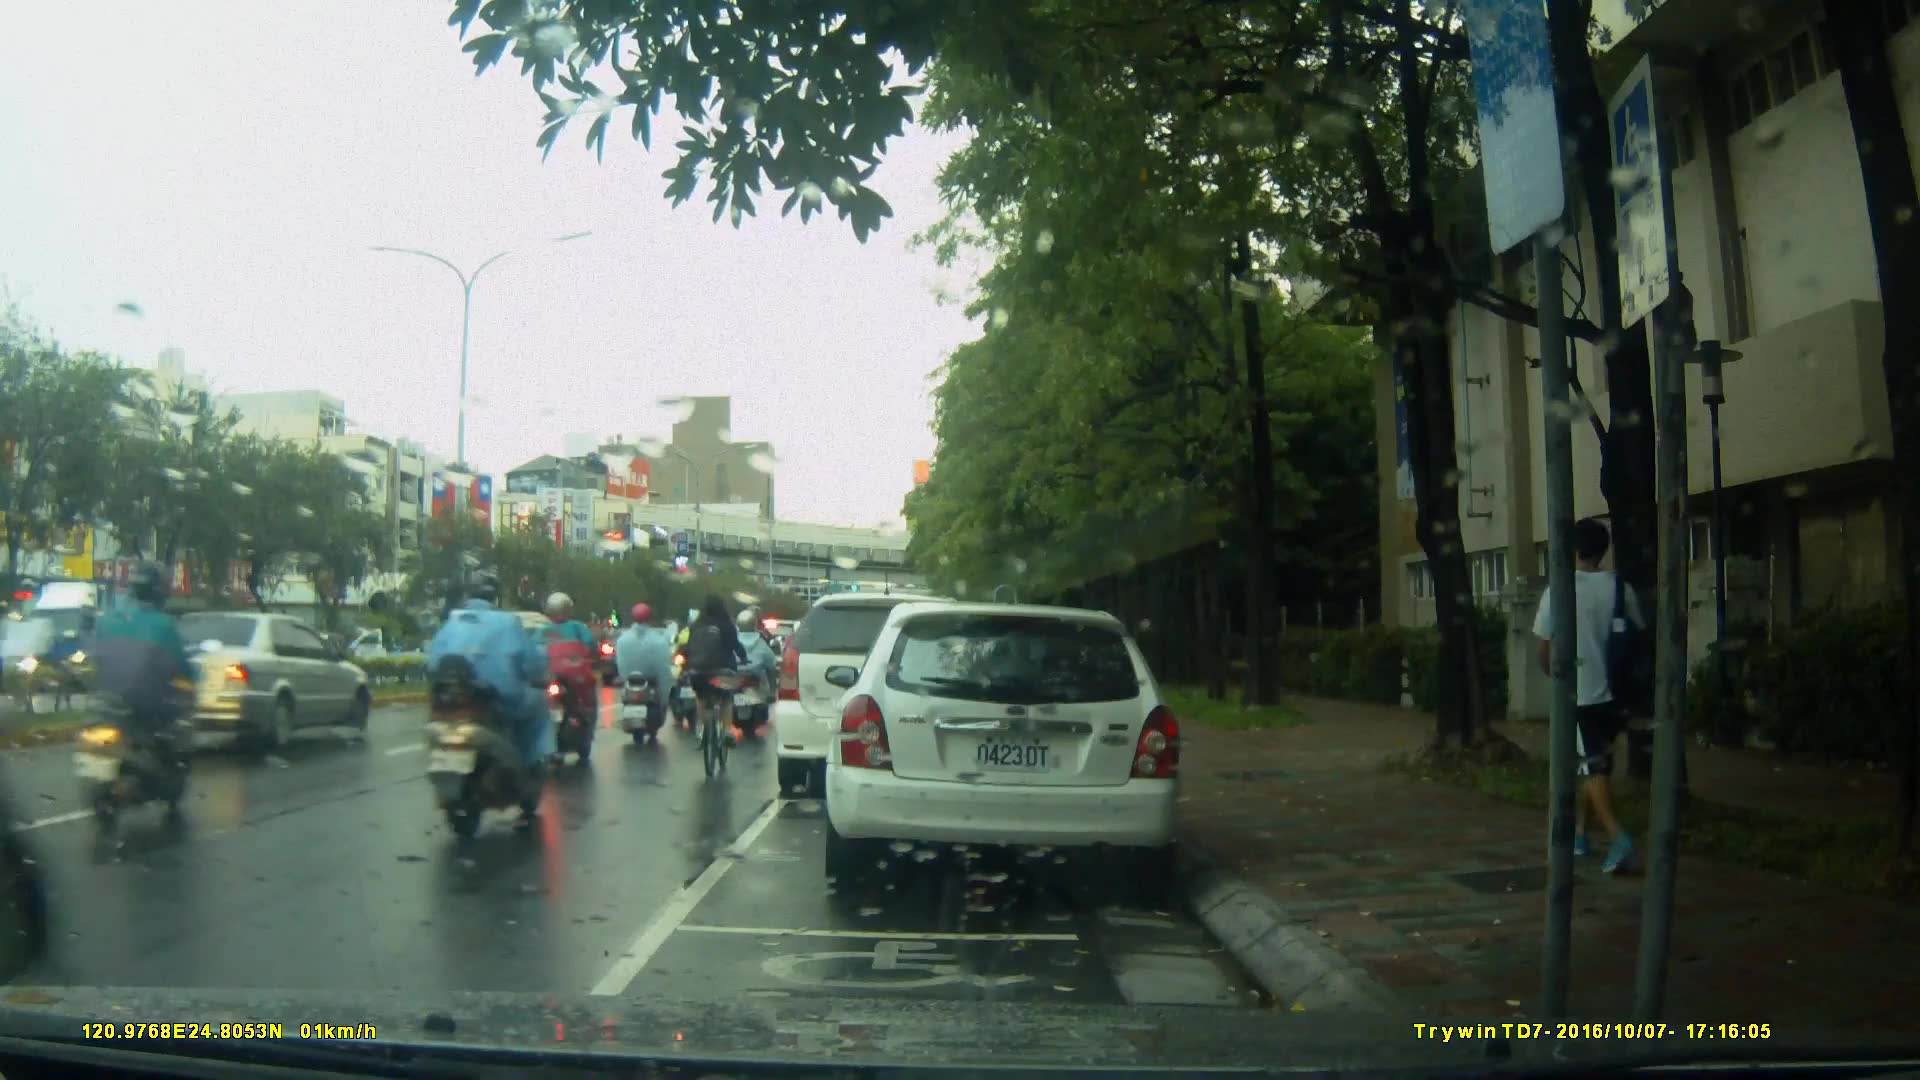pedestrian: (1538, 495, 1661, 907)
rider: (428, 565, 572, 841), (79, 556, 193, 833), (523, 592, 604, 761), (679, 595, 743, 790), (617, 600, 677, 745), (722, 610, 775, 729), (670, 606, 713, 714)
vehicle: (822, 604, 1188, 882), (774, 595, 995, 802), (123, 610, 377, 752), (423, 608, 583, 713)
